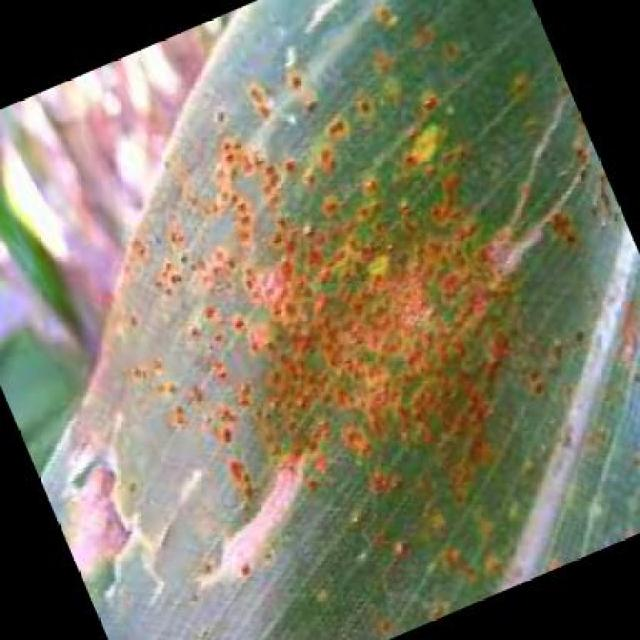Corn_Rust: (105, 77, 568, 557)
